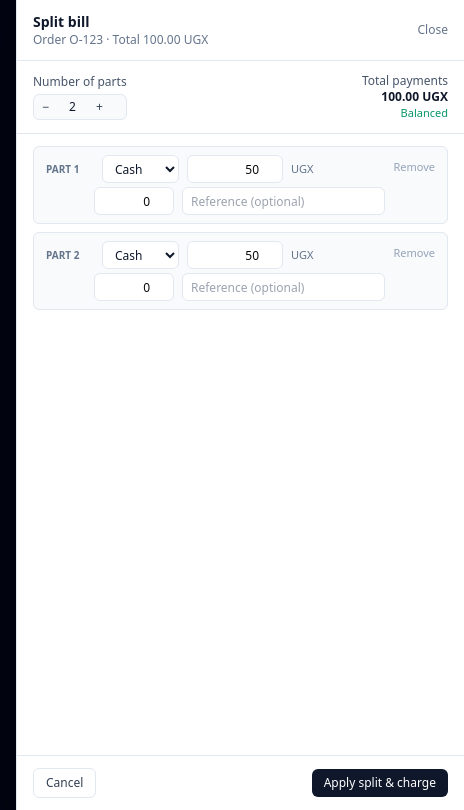
Scenario: PosSplitBillDrawer › disables submit button when unbalanced
Change first payment to make it unbalanced
Replace the text in the 1st number field with "30" at {"x": 235, "y": 169}, box [187,155,283,183]
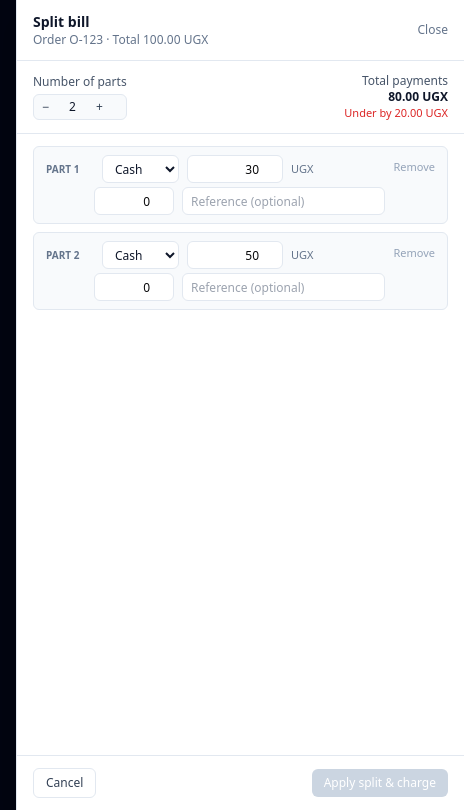
Result: the button "Apply split & charge" is disabled at [312,769,448,797]
